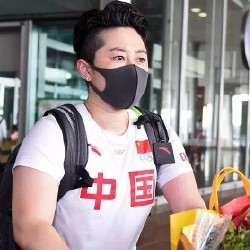mask: (86, 62, 150, 111)
